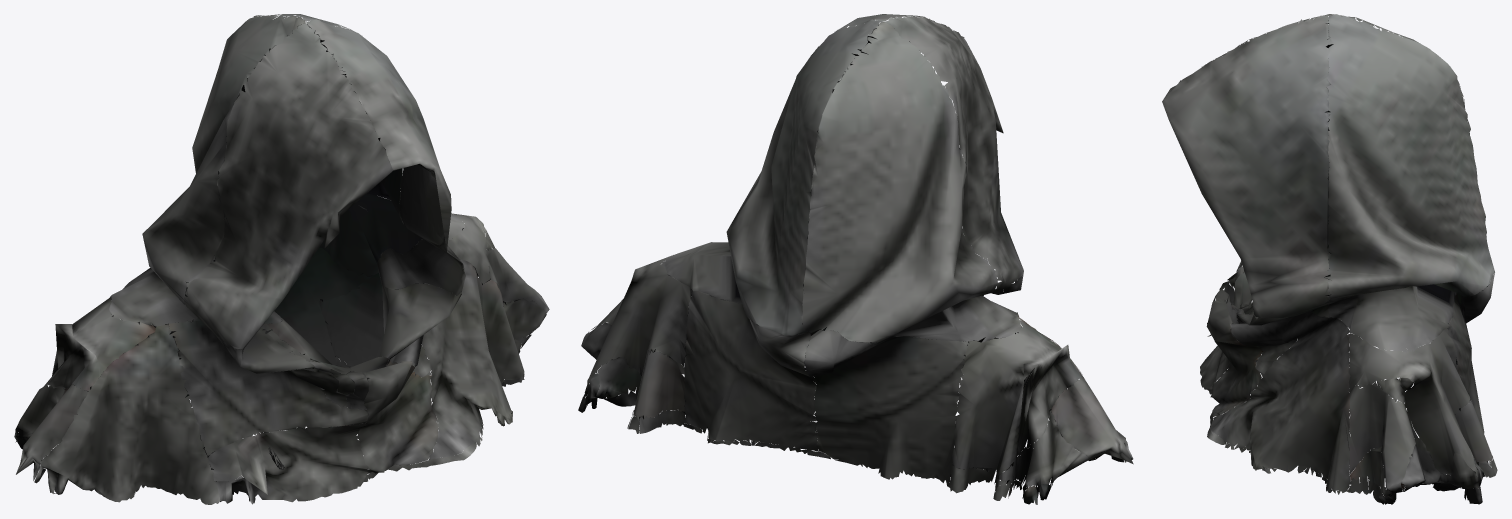
The model's file is a_hood.glb.
3 views of the same model, side by side, from view 1: azimuth 30°, elevation 25°; view 2: azimuth 150°, elevation 25°; view 3: azimuth 270°, elevation 25° (orthographic). The views are drawn at different scales.
Visible parts, largest first — view 1: geometry_0; view 2: geometry_0; view 3: geometry_0.
Part boxes in pixels (x1=…): geometry_0: x1=14, y1=14, x2=549, y2=504; geometry_0: x1=578, y1=14, x2=1133, y2=504; geometry_0: x1=1162, y1=14, x2=1497, y2=504.
Size of the model in its own units: 0.5051 by 0.36 by 0.2871.
Materials: 1 (1 with a texture image).
